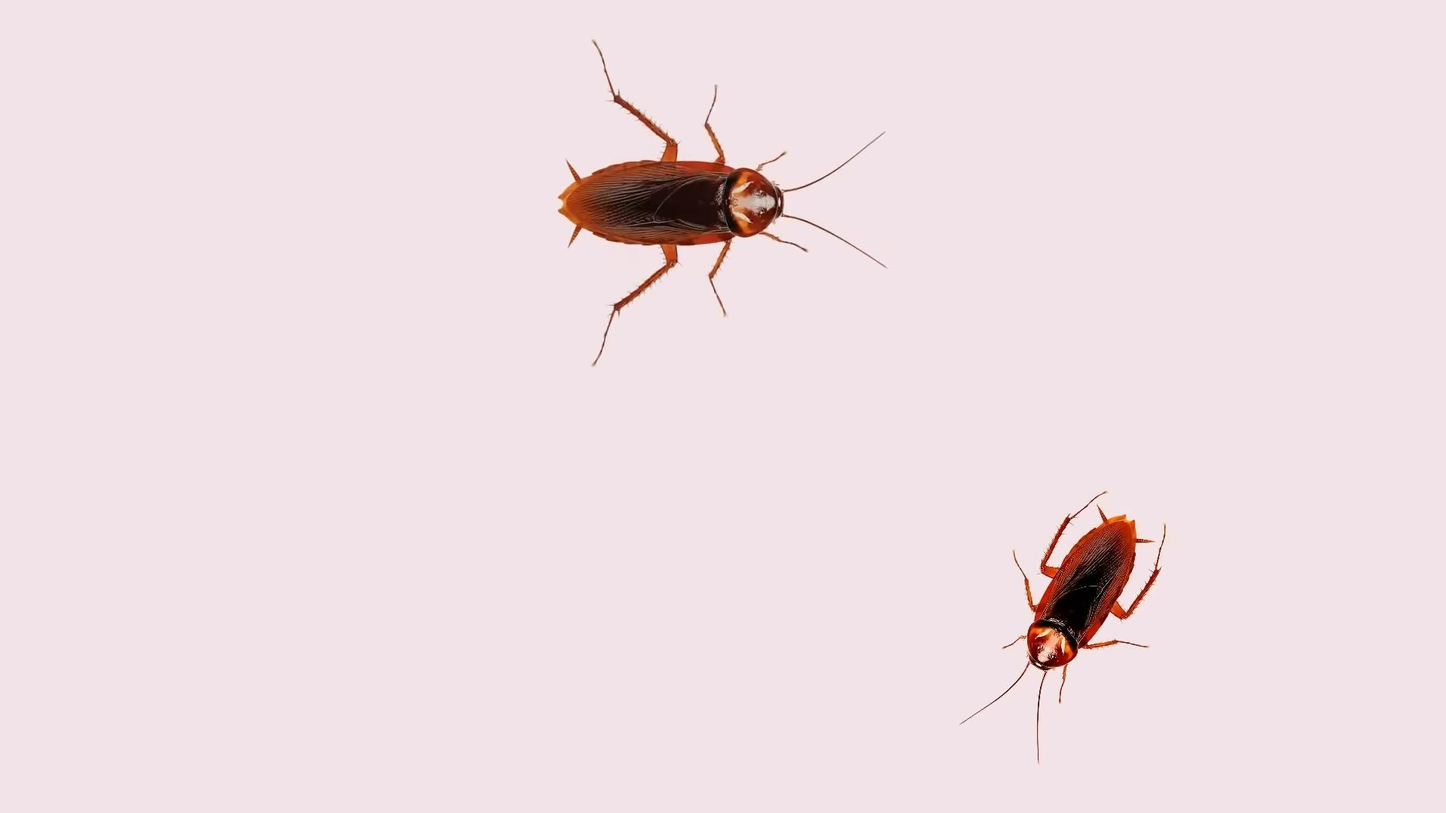cockroach: (561, 16, 894, 370), (955, 475, 1167, 760)
